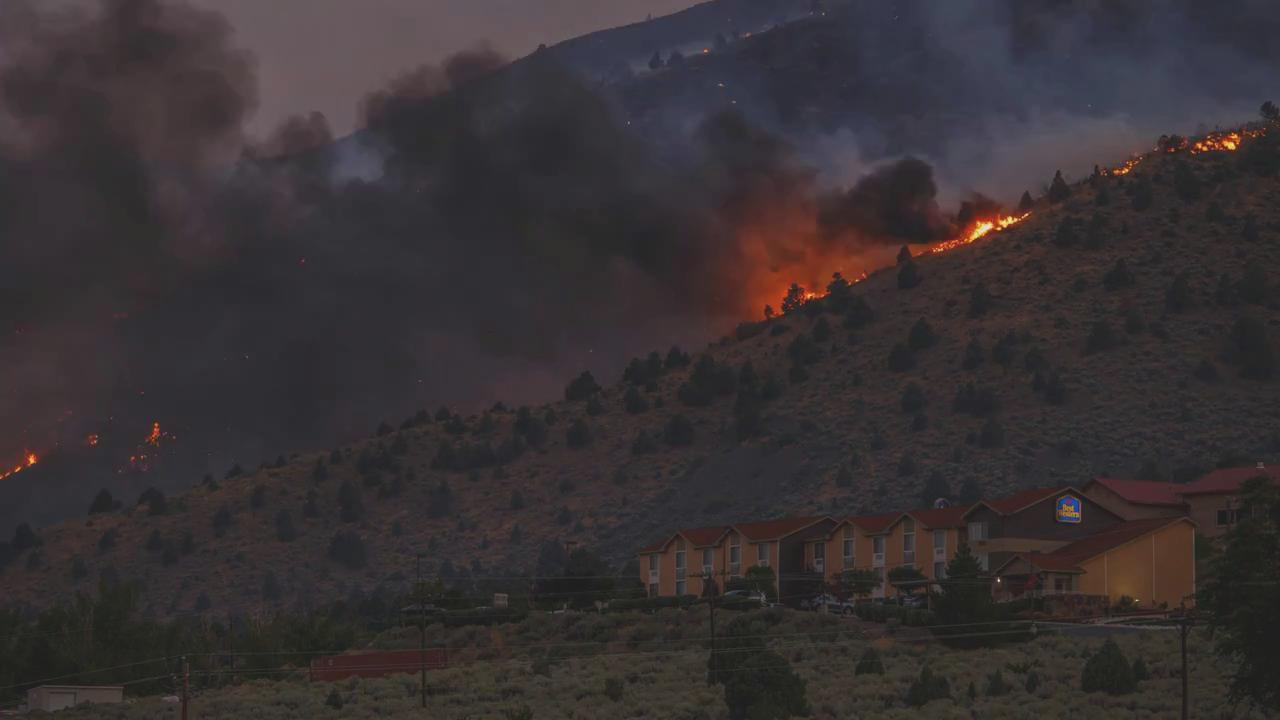fire: (932, 208, 1033, 254), (1190, 126, 1244, 152), (4, 454, 35, 479), (140, 419, 164, 450), (1112, 155, 1143, 176), (803, 288, 823, 301)
